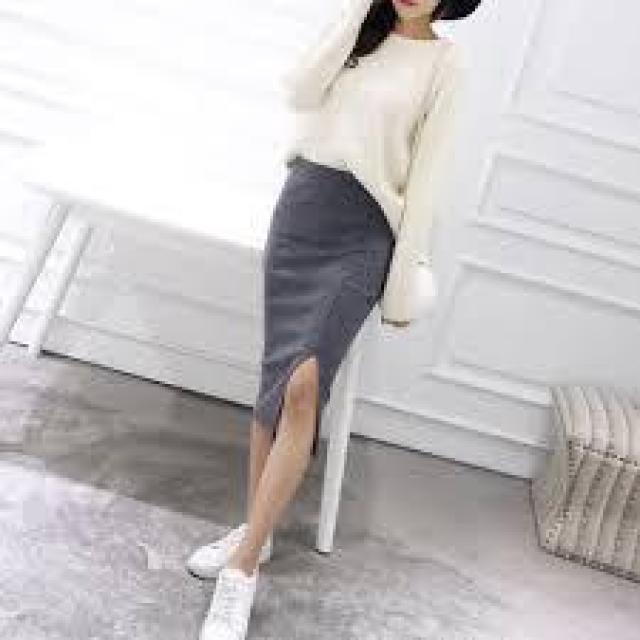skirt: (229, 158, 394, 459)
sweater: (276, 16, 492, 200)
